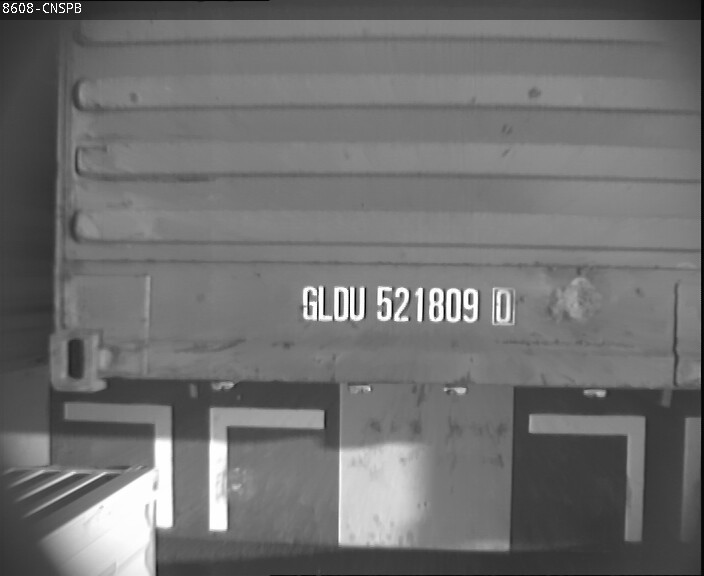groundmarker_1: (63, 402, 322, 531)
